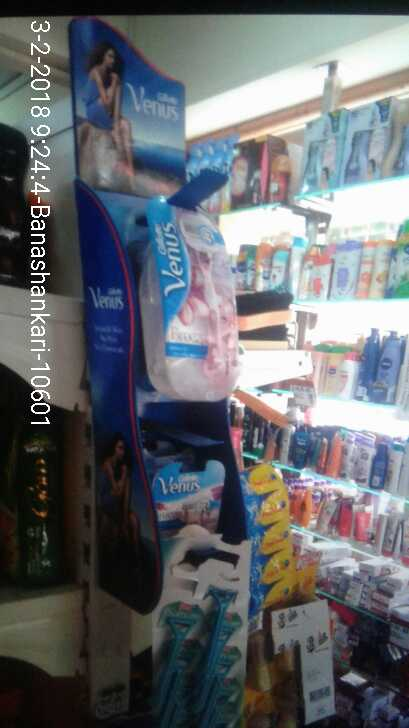venus: (139, 189, 248, 402)
